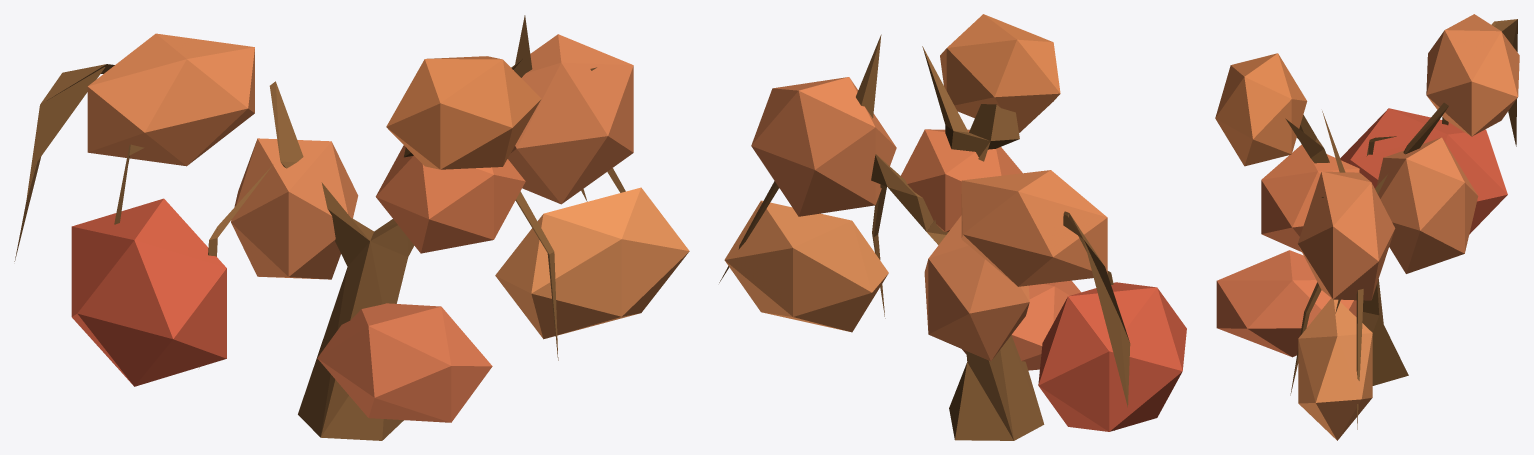
File: cherry_weeping_autumn_far.glb
3 renders of one model, left to right at view 1: azimuth 30°, elevation 25°; view 2: azimuth 150°, elevation 25°; view 3: azimuth 270°, elevation 25°, orthographic. The views are drawn at different scales.
Parts seen in each view (by area): view 1: cherry_weeping_autumn_far; view 2: cherry_weeping_autumn_far; view 3: cherry_weeping_autumn_far.
Part boxes in pixels (bbox=[...]): cherry_weeping_autumn_far: bbox=[14, 15, 689, 440]; cherry_weeping_autumn_far: bbox=[719, 14, 1186, 440]; cherry_weeping_autumn_far: bbox=[1215, 14, 1519, 440].
Size of the model in its own units: 8.86 by 5.95 by 5.04.
